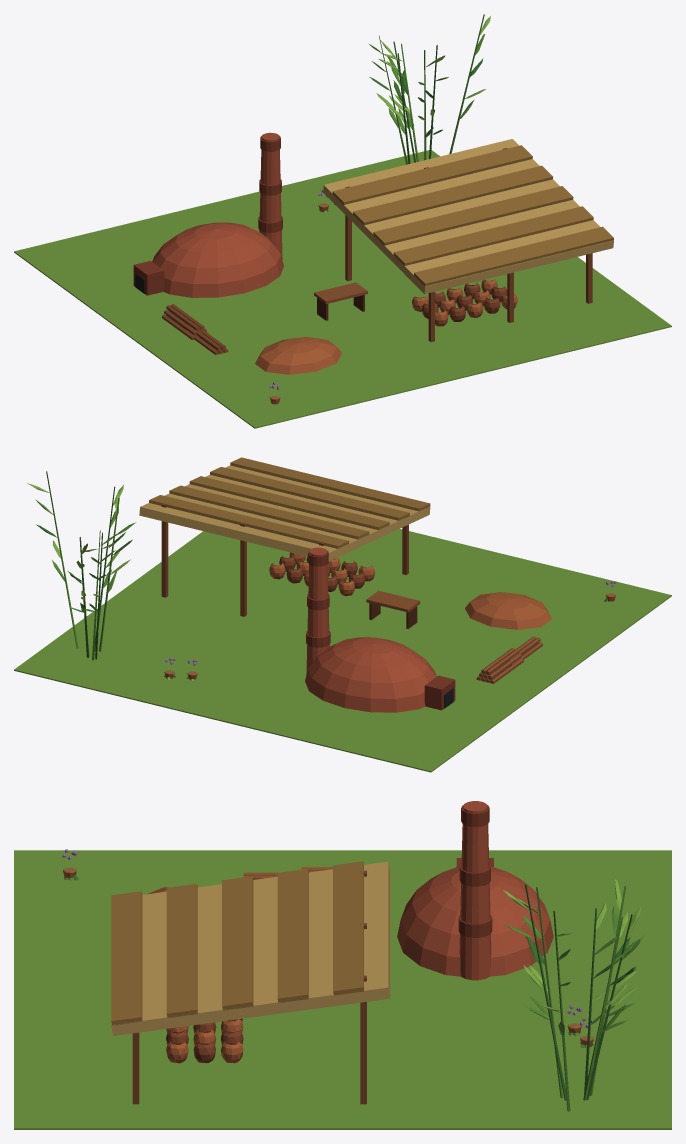
File: factory_2.glb
3 renders of one model, top to bottom at view 1: azimuth 30°, elevation 25°; view 2: azimuth 150°, elevation 25°; view 3: azimuth 270°, elevation 25°, orthographic. The views are drawn at different scales.
Visible parts, largest first — view 1: body; view 2: body; view 3: body.
Boxes of the visible parts, left/top/right/bottom form: body: left=14, top=14, right=671, bottom=428; body: left=14, top=457, right=671, bottom=772; body: left=14, top=801, right=671, bottom=1129.
Size of the model in its own units: 16.82 by 6.24 by 15.9.
